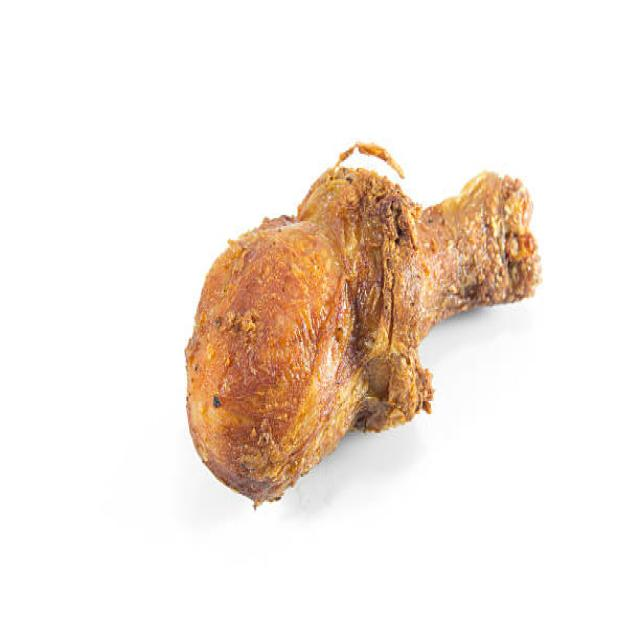Chicken: (173, 148, 556, 515)
